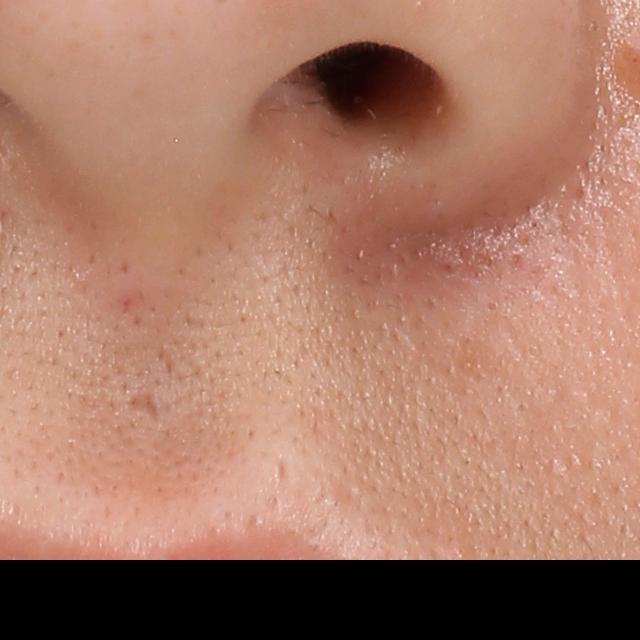atrophic_scar: (121, 384, 163, 434), (272, 450, 293, 492)
